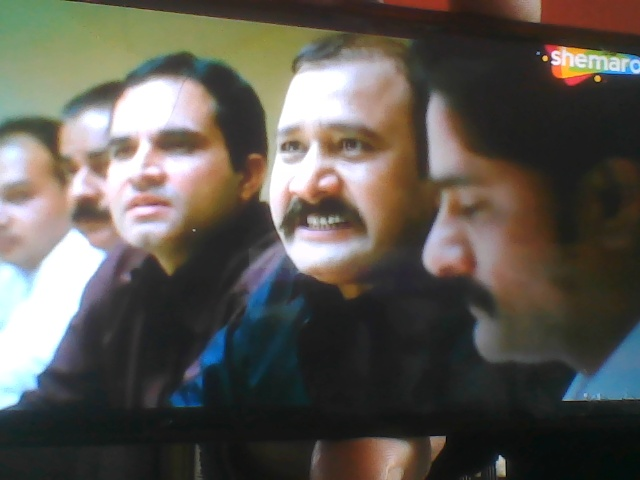fake: (246, 0, 446, 283), (88, 42, 242, 261)
